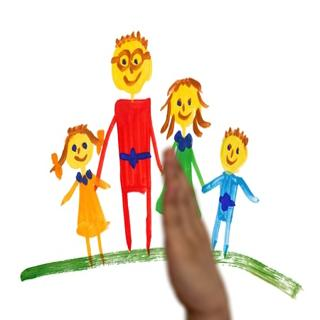RIGHT: (156, 144, 236, 320)
